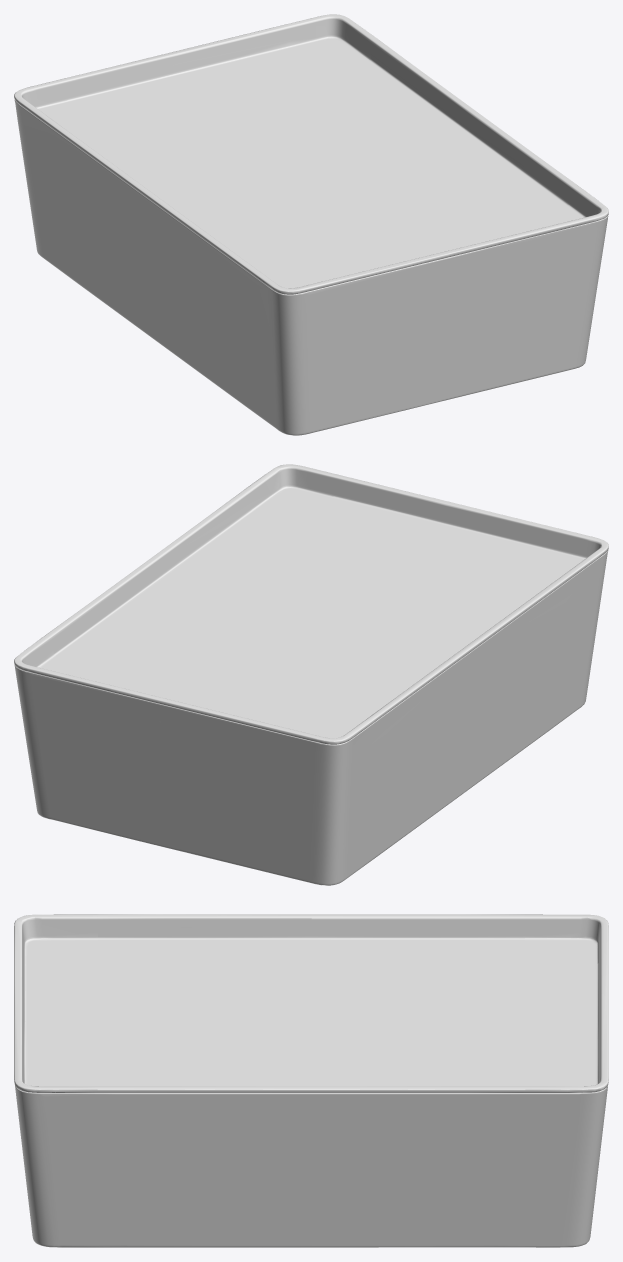
File: kuggis_pojemnik_z_pokrywka_09561157.glb
3 renders of one model, top to bottom at view 1: azimuth 30°, elevation 25°; view 2: azimuth 150°, elevation 25°; view 3: azimuth 270°, elevation 25°, orthographic. The views are drawn at different scales.
Parts seen in each view (by area): view 1: kuggis_pojemnik_z_pokrywka_09561157; view 2: kuggis_pojemnik_z_pokrywka_09561157; view 3: kuggis_pojemnik_z_pokrywka_09561157.
Boxes of the visible parts, left/top/right/bottom form: kuggis_pojemnik_z_pokrywka_09561157: left=14, top=14, right=608, bottom=435; kuggis_pojemnik_z_pokrywka_09561157: left=14, top=464, right=608, bottom=885; kuggis_pojemnik_z_pokrywka_09561157: left=14, top=914, right=608, bottom=1247.
Bounding box in the file's own units: 0.1802 × 0.08 × 0.2586.
Materials: 2 (2 with a texture image).
